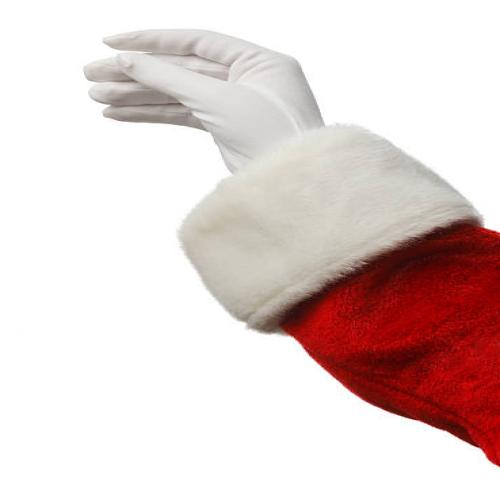Santa: (77, 27, 500, 469)
